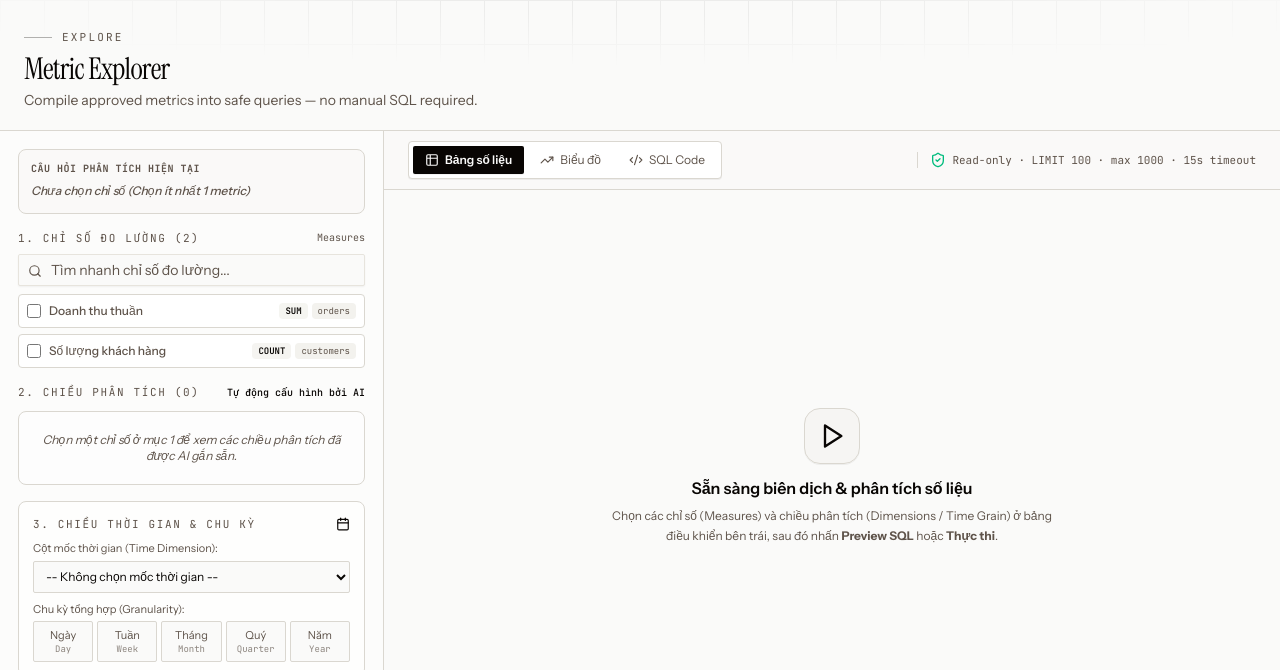
Scenario: MetricExplorerView › filters metric list in Section 1 by metric search query and clears search
The image size is (1280, 670).
expect the text "Doanh thu thuần" is shown: met, box [49, 303, 143, 319]
expect the text "Số lượng khách hàng" is shown: met, box [49, 343, 166, 359]
// Type in metric search
Type "khách hàng" into the field with placeholder "Tìm nhanh chỉ số đo lường..." at (192, 270), box [18, 254, 365, 286]
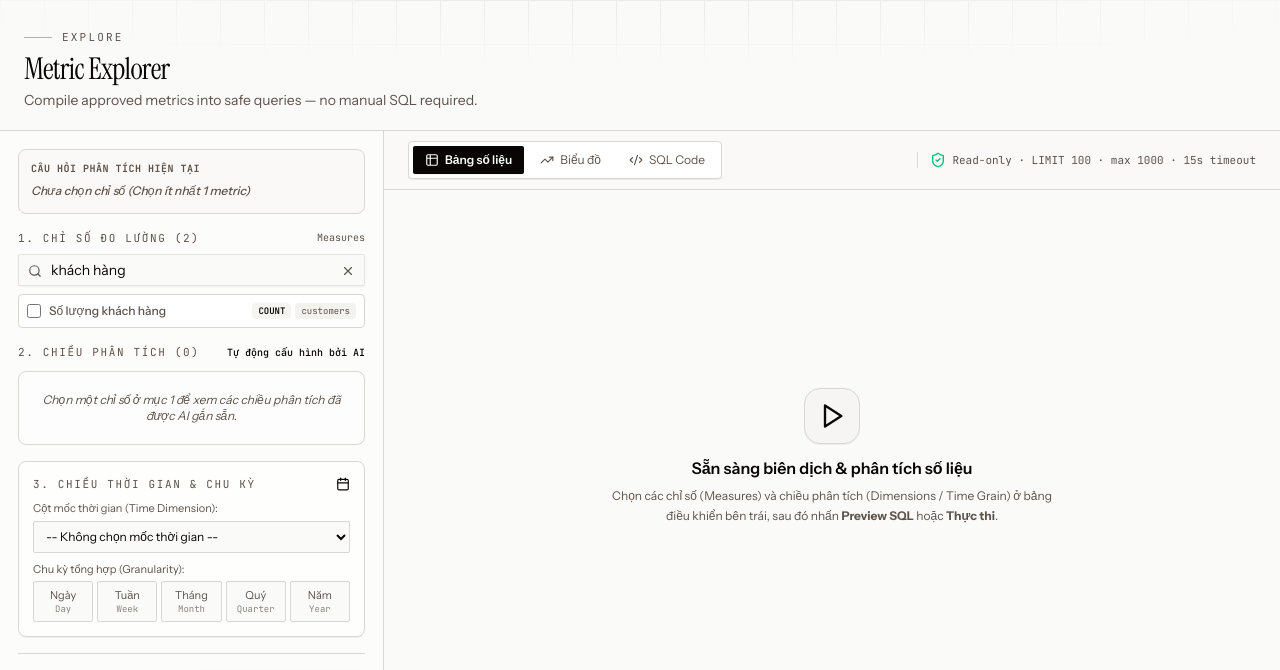
expect the text "Số lượng khách hàng" is shown: met, box [49, 303, 166, 319]
expect the text "Doanh thu thuần" is gone: met
// Type non-matching search
Replace the text in the field with placeholder "Tìm nhanh chỉ số đo lường..." with "không tồn tại" at (192, 270), box [18, 254, 365, 286]
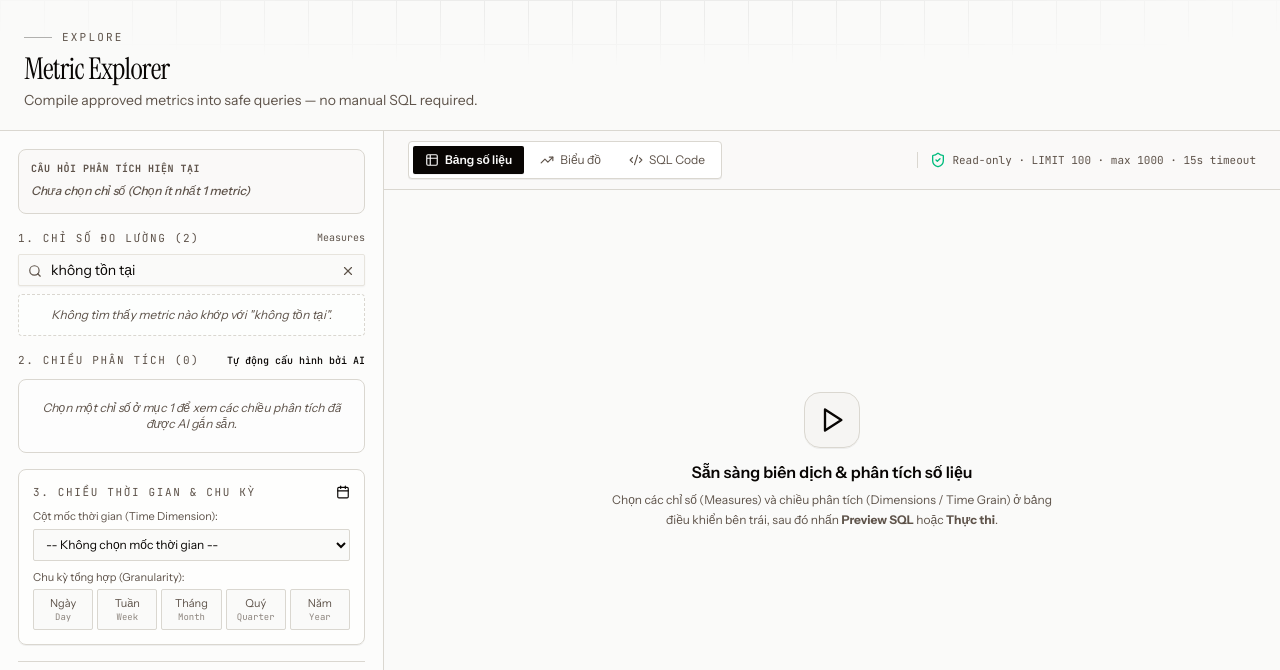
expect the text "Không tìm thấy metric nào khớp với \"không tồn tại\"." is shown: met, box [18, 294, 365, 336]
// Clear search
Clear the field with placeholder "Tìm nhanh chỉ số đo lường..." at (192, 270), box [18, 254, 365, 286]
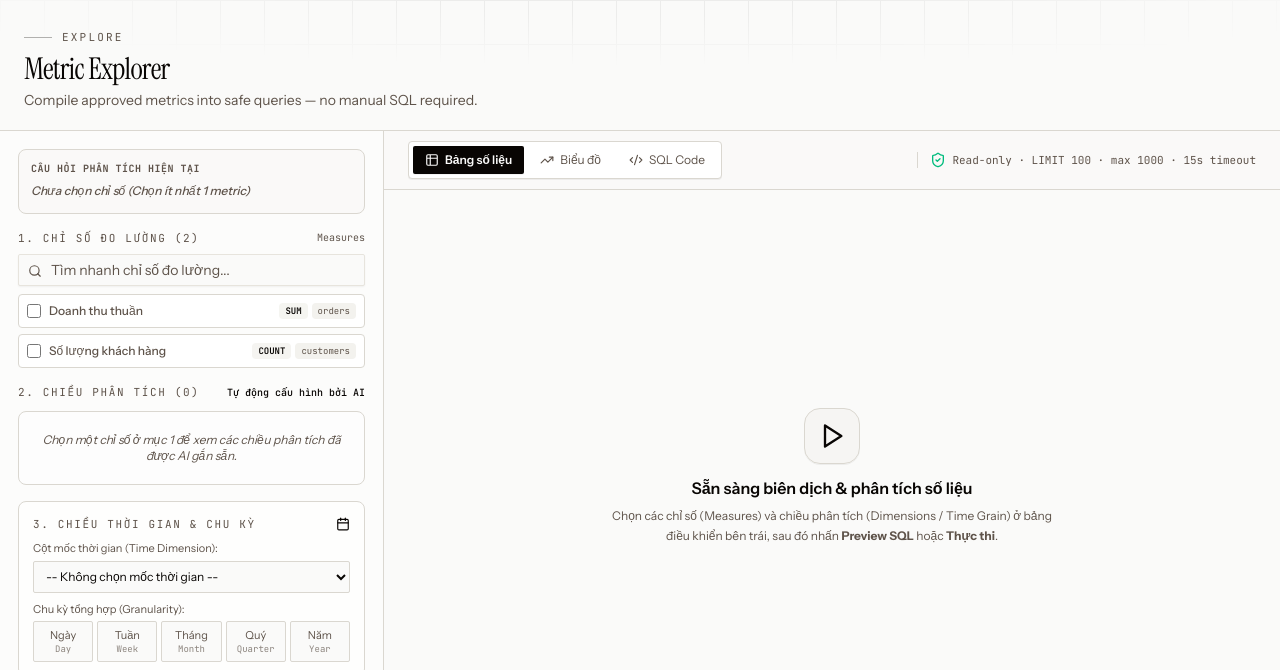
expect the text "Doanh thu thuần" is shown: met, box [49, 303, 143, 319]
expect the text "Số lượng khách hàng" is shown: met, box [49, 343, 166, 359]
